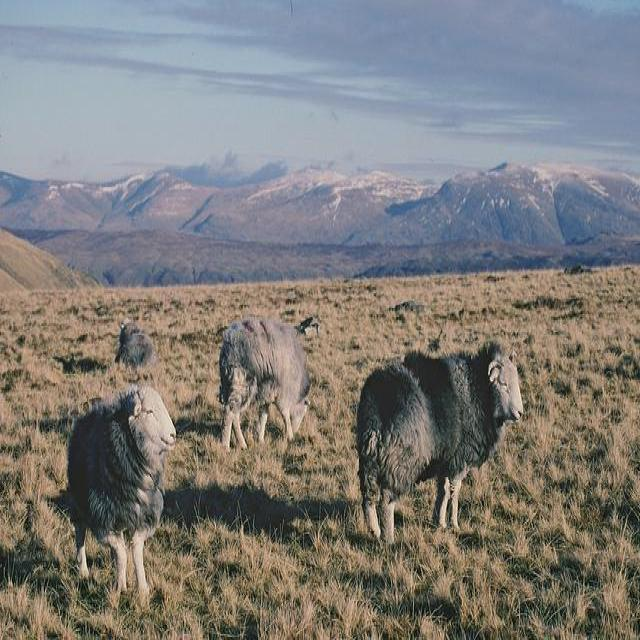Sheep: (357, 342, 523, 546), (68, 384, 178, 595), (220, 318, 312, 454), (117, 317, 159, 366)
